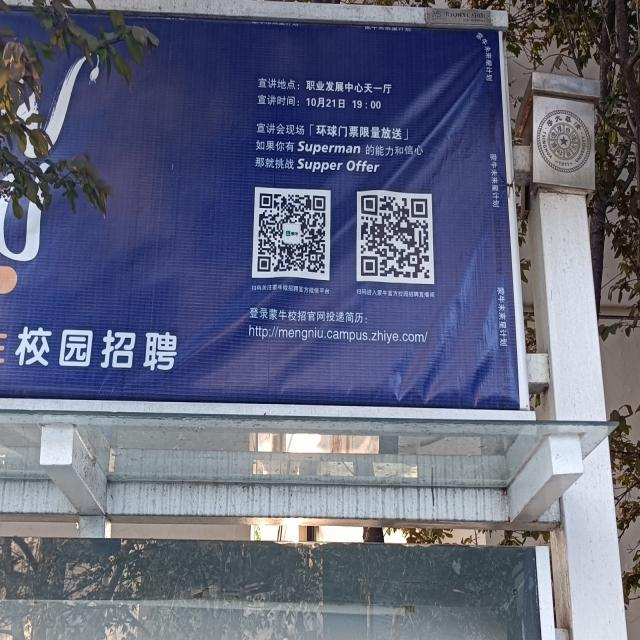qr_code: (360, 195, 430, 279), (257, 194, 326, 274)
